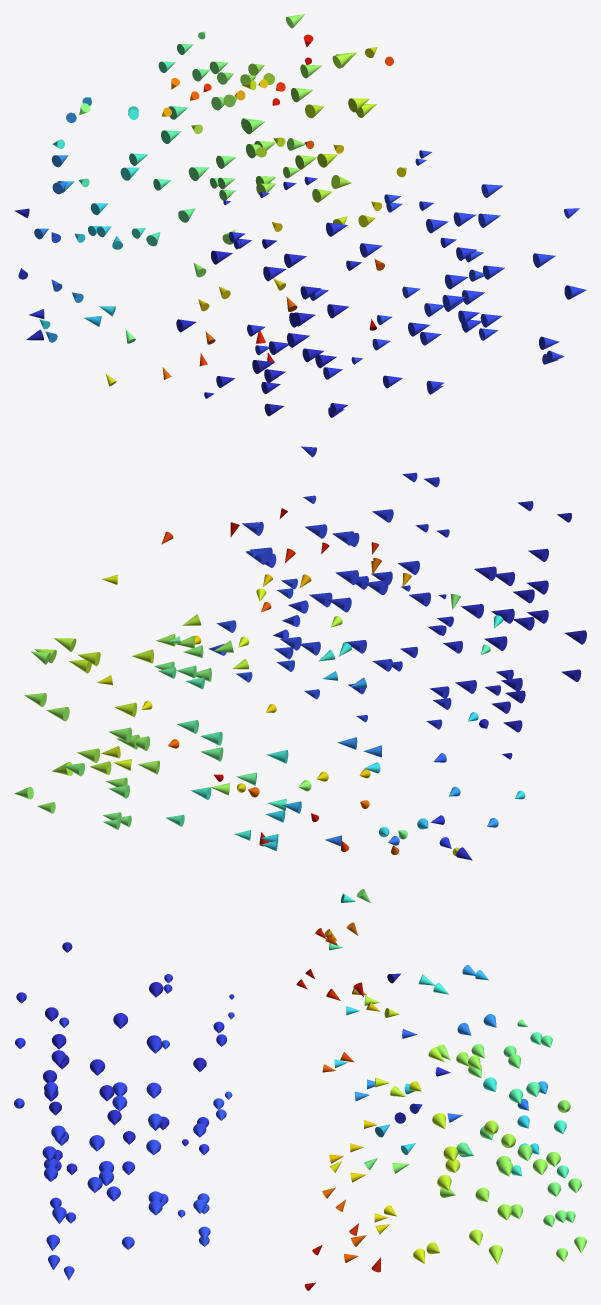
The model's file is LineasCorrienteN2-H2O_mh2-6.88_V-1.glb.
3 renders of one model, top to bottom at view 1: azimuth 30°, elevation 25°; view 2: azimuth 150°, elevation 25°; view 3: azimuth 270°, elevation 25°, orthographic.
Size of the model in its own units: 0.000982 by 0.000707 by 0.00119.
Materials: 2 (2 with a texture image).
